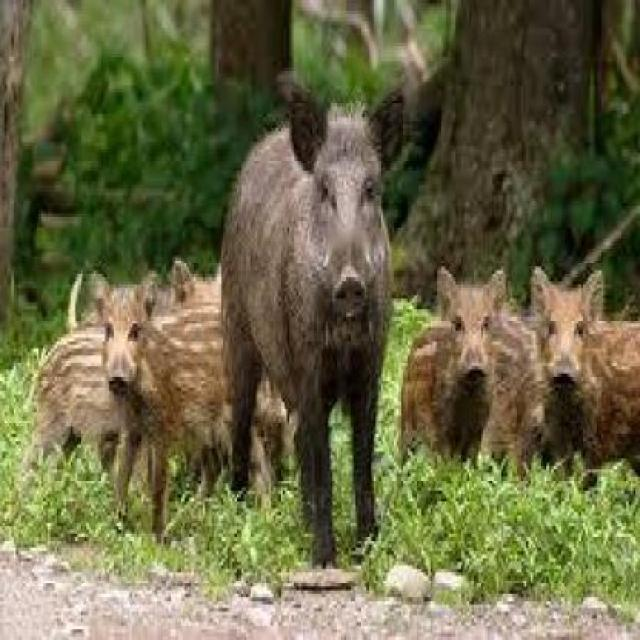wildboar: (212, 76, 416, 587), (88, 262, 298, 536), (69, 251, 243, 477), (398, 263, 538, 492), (21, 322, 177, 527), (512, 262, 640, 489)
